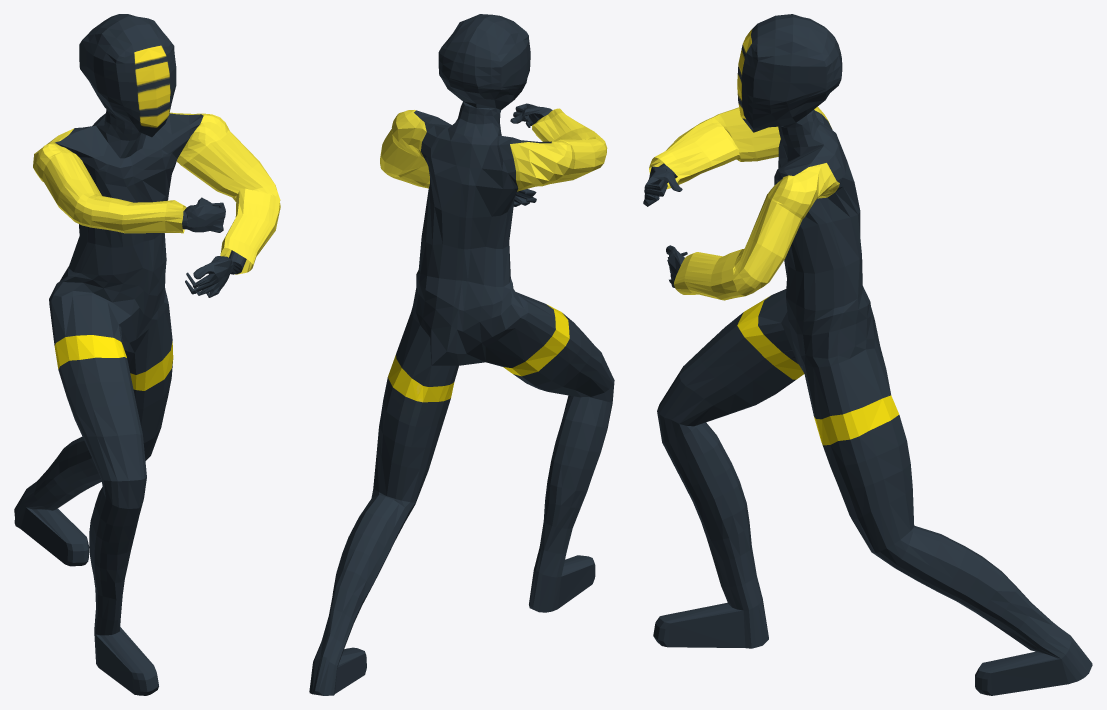
Rendered from Sentry_Hit_Stun_000006.obj.
The picture shows the model from 3 angles, left to right: view 1: azimuth 30°, elevation 25°; view 2: azimuth 150°, elevation 25°; view 3: azimuth 270°, elevation 25°; orthographic projection. The views are drawn at different scales.
Parts seen in each view (by area): view 1: Cube; view 2: Cube; view 3: Cube.
Part boxes in pixels (<box>): Cube: <box>14,14,280,695</box>; Cube: <box>309,14,614,695</box>; Cube: <box>643,14,1092,695</box>.
Size of the model in its own units: 1.29 by 3.5 by 2.18.
